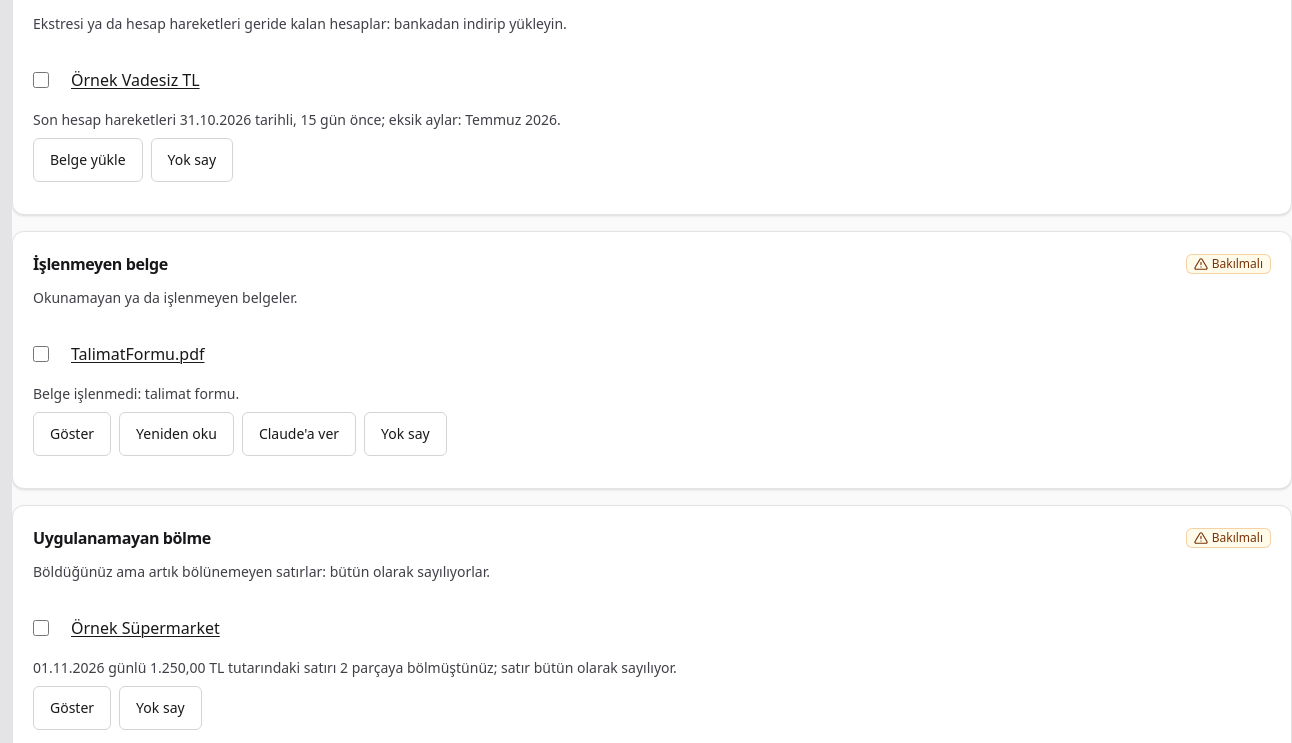
Test: TodoPage: the steps › says beside the item why it could not be read again
The width and height of the screenshot is (1292, 743).
(page scrolled)
Click the button with aria-label "Yeniden oku: TalimatFormu.pdf" at (176, 434), box [119,412,234,456]
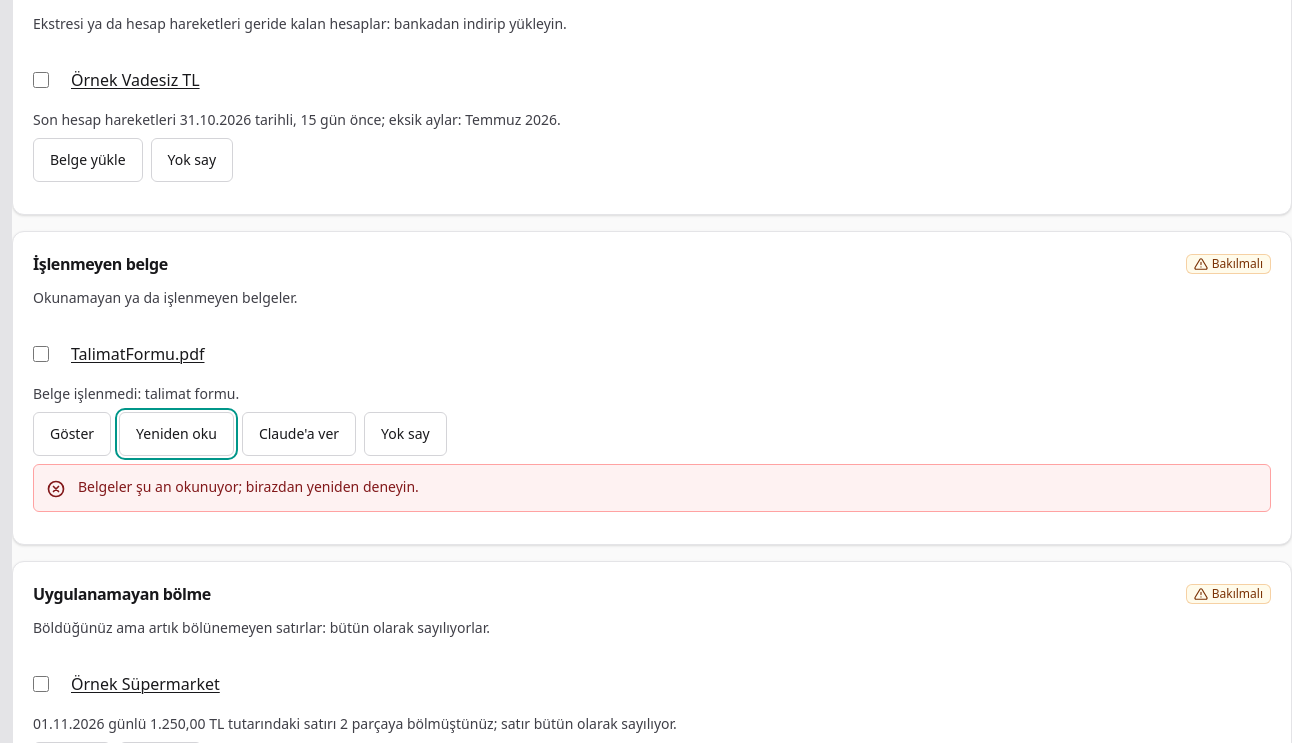
Result: the text "Belgeler şu an okunuyor; birazdan yeniden deneyin." is shown at [78,477,419,497]
